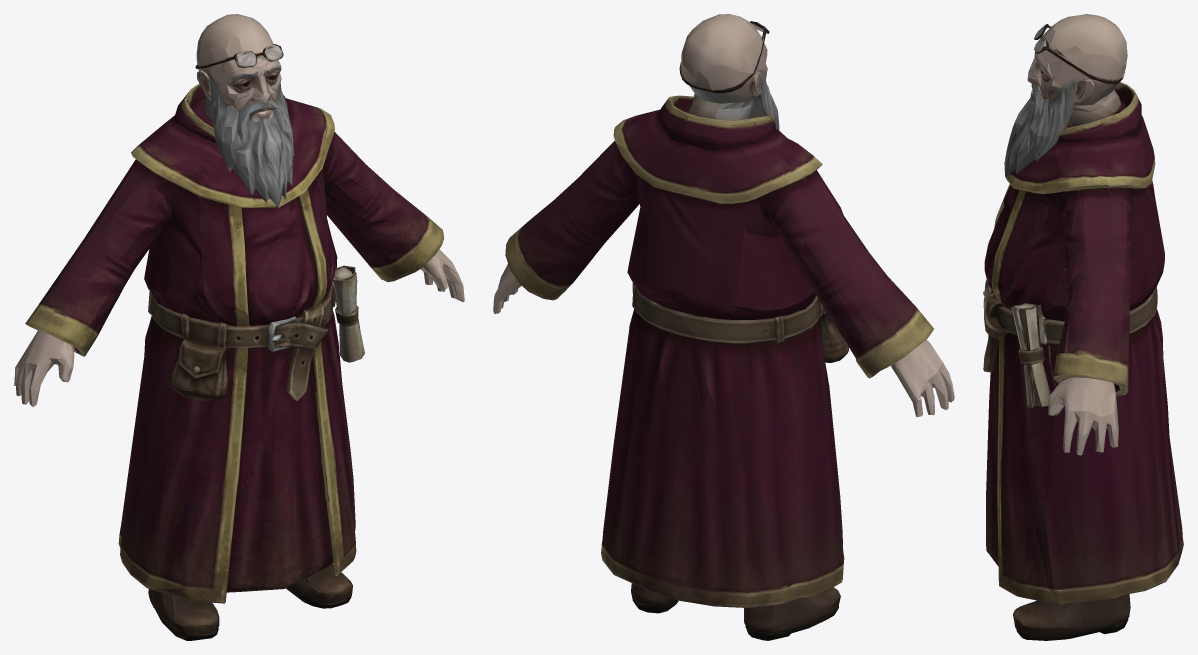
File: MW_DM_Wizard.glb
3 renders of one model, left to right at view 1: azimuth 30°, elevation 25°; view 2: azimuth 150°, elevation 25°; view 3: azimuth 270°, elevation 25°, orthographic. The views are drawn at different scales.
Bounding box in the file's own units: 1.49 × 1.9 × 0.5938.
Materials: 1 (1 with a texture image).
